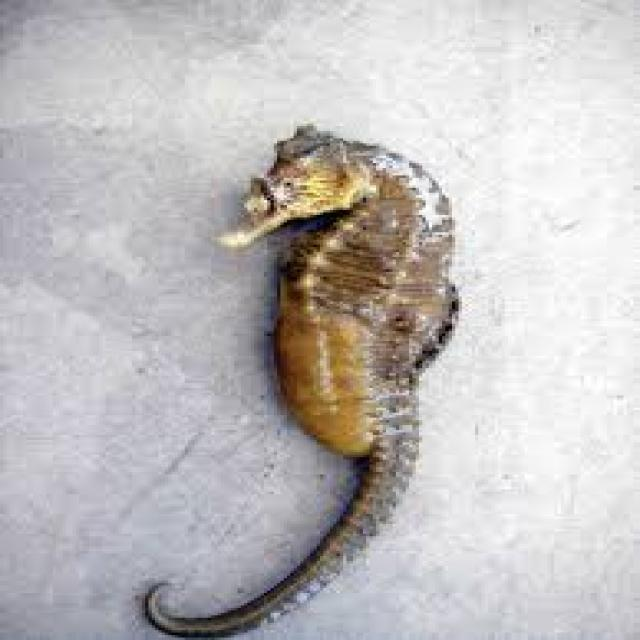seahorse: (145, 126, 455, 633)
